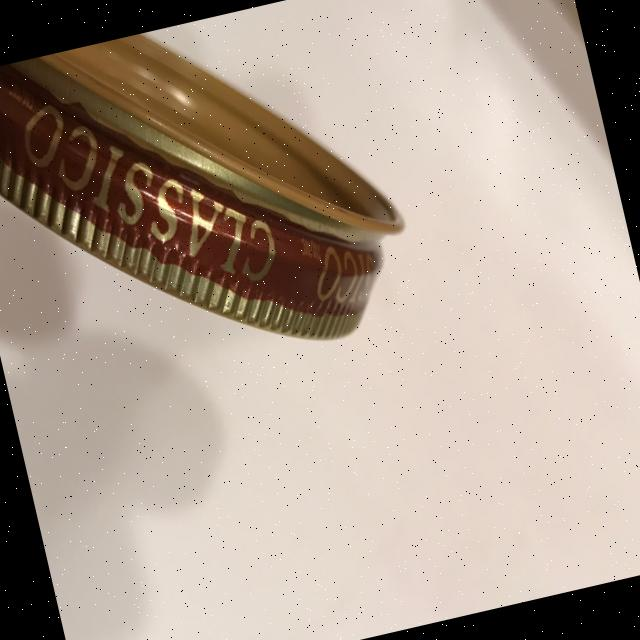metal: (0, 0, 427, 415)
